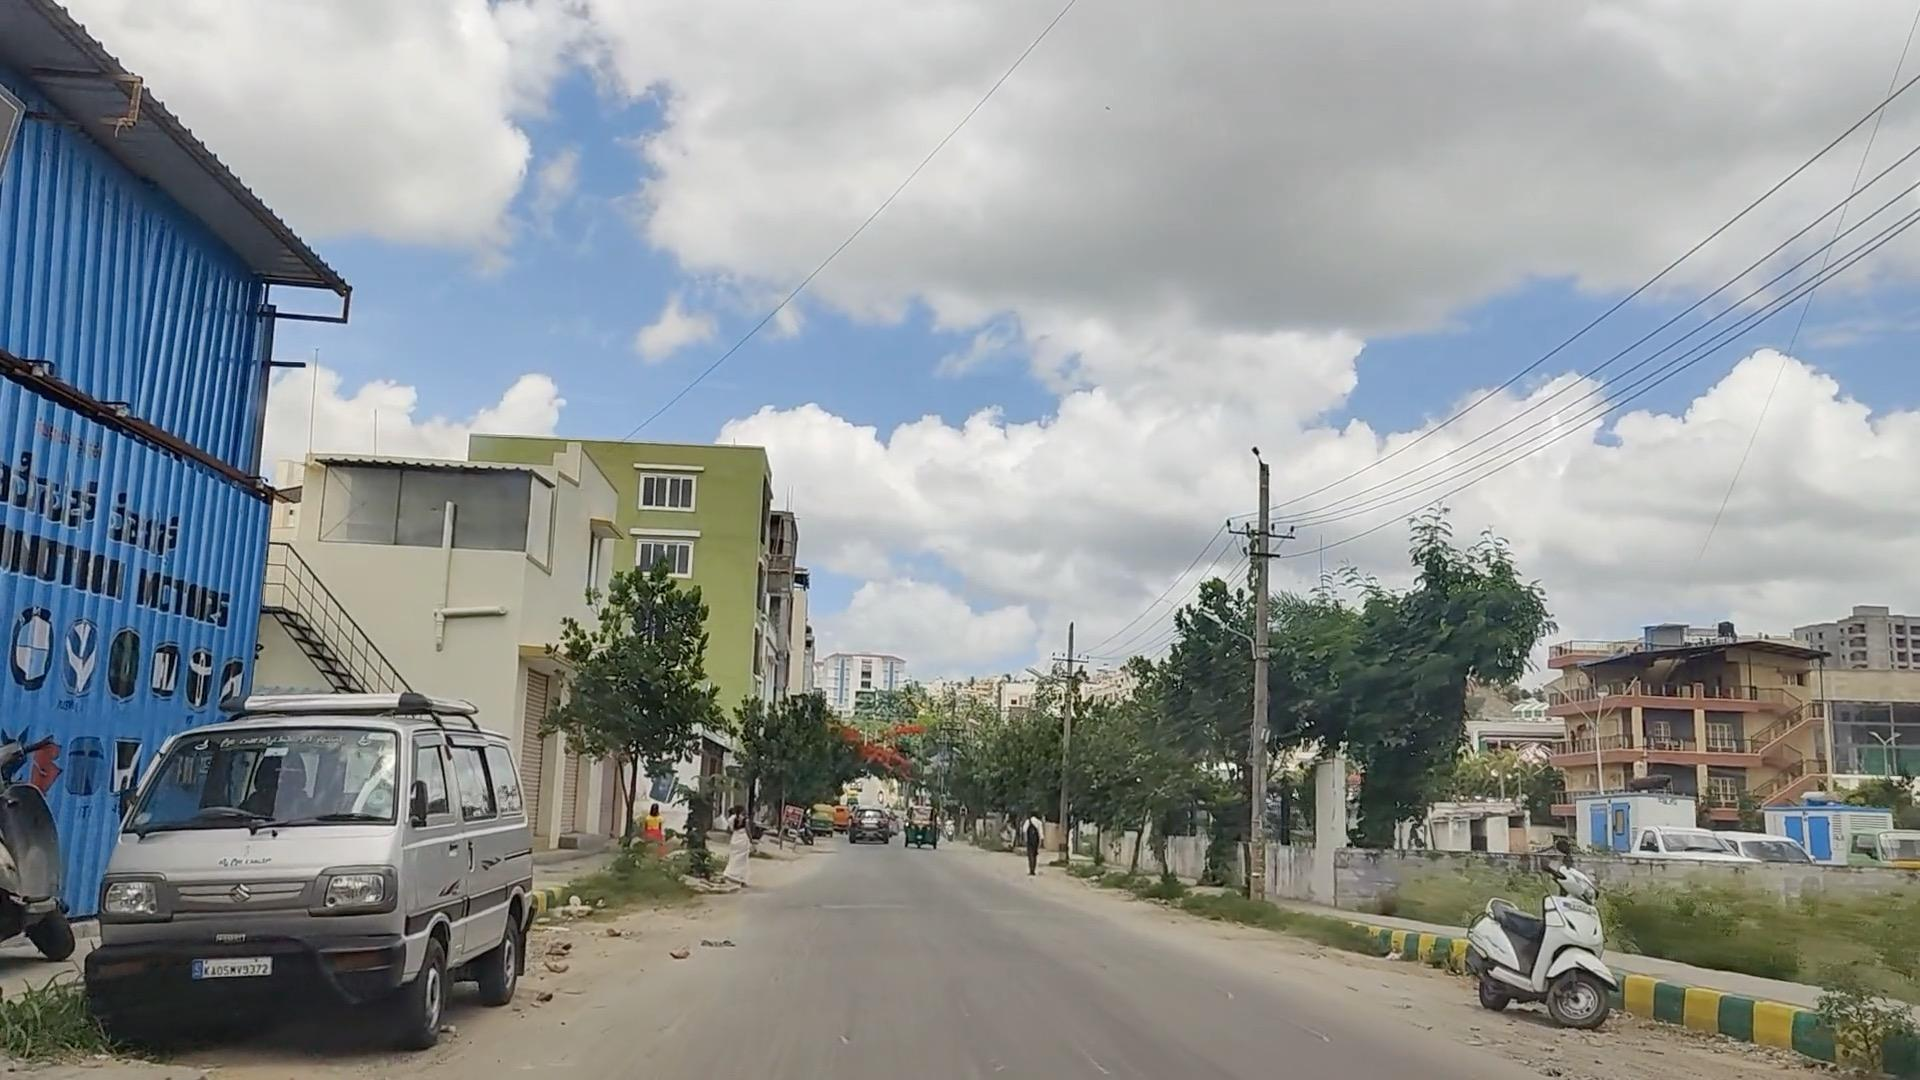LMV: (95, 695, 455, 1043), (1457, 845, 1619, 1033)
